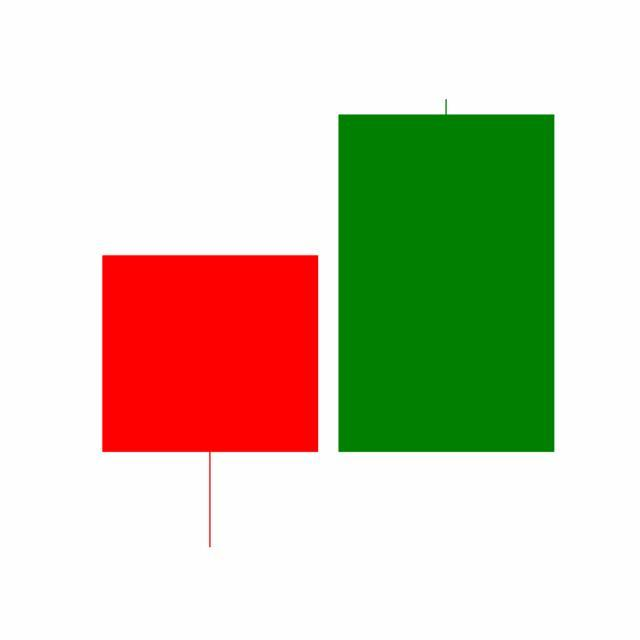Marubozu: (328, 96, 566, 456)
